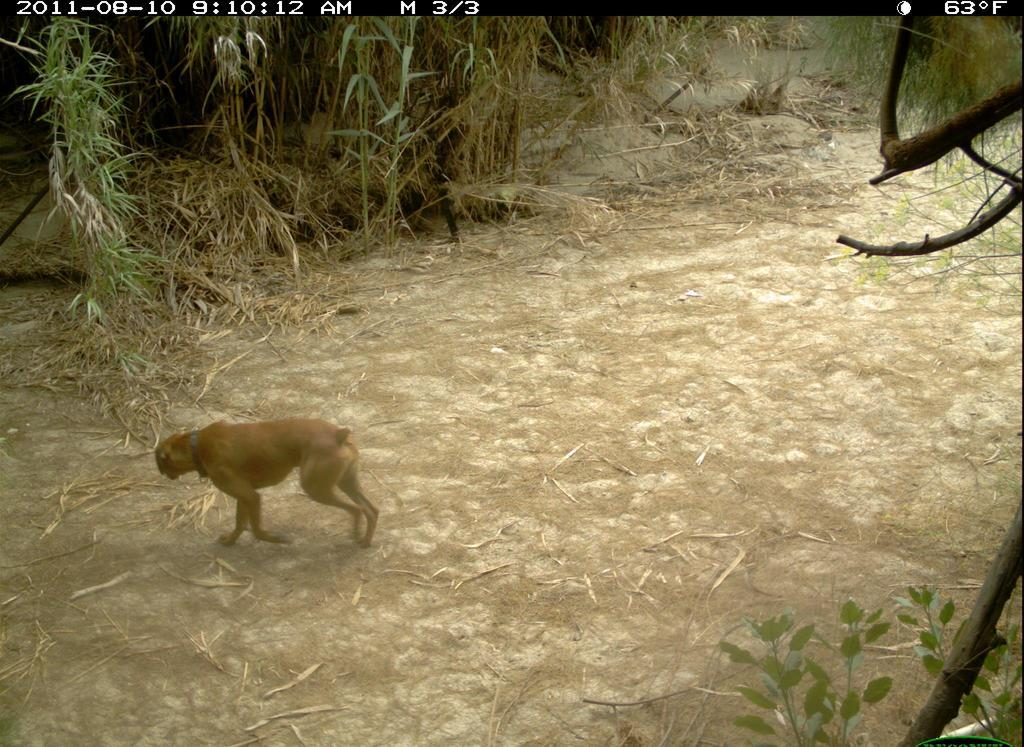dog: (149, 414, 390, 557)
